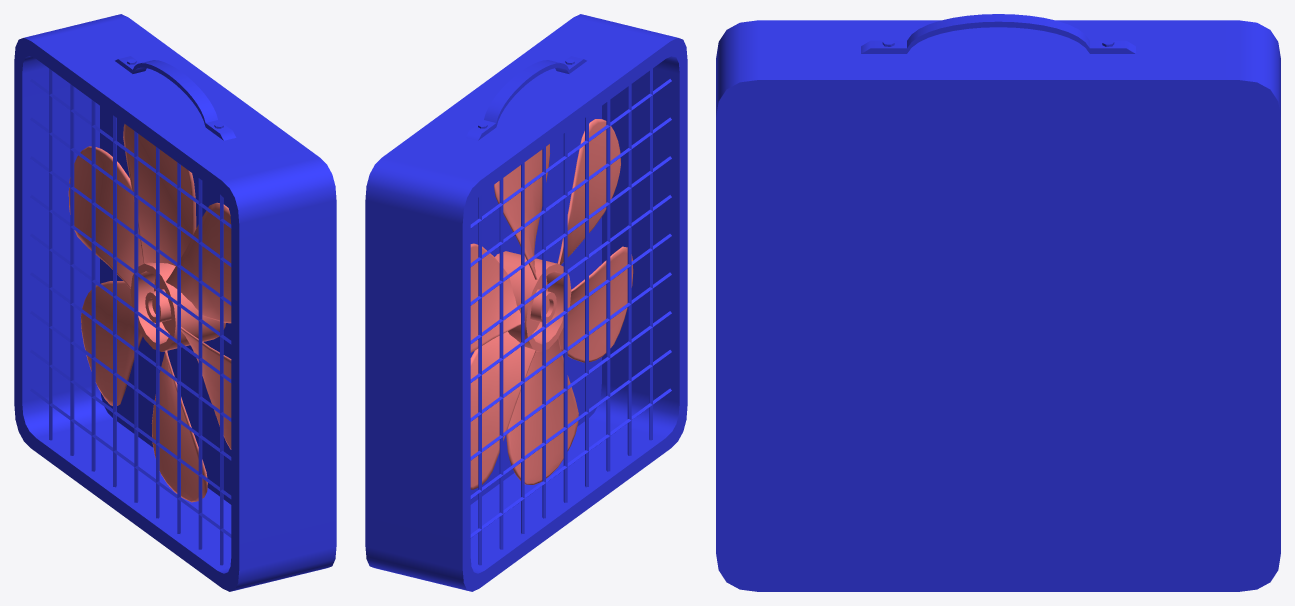
Rendered from fanwithbone_med.fbx.
3 renders of one model, left to right at view 1: azimuth 30°, elevation 25°; view 2: azimuth 150°, elevation 25°; view 3: azimuth 270°, elevation 25°, orthographic. The views are drawn at different scales.
Parts seen in each view (by area): view 1: fan_low, Bone004; view 2: fan_low, Bone004; view 3: fan_low.
Boxes of the visible parts, bbox=[...] form: fan_low: bbox=[14, 14, 336, 591]; Bone004: bbox=[68, 124, 231, 502]; fan_low: bbox=[365, 14, 687, 591]; Bone004: bbox=[470, 119, 633, 489]; fan_low: bbox=[716, 14, 1280, 591].
Size of the model in its own units: 25 by 106 by 100.
